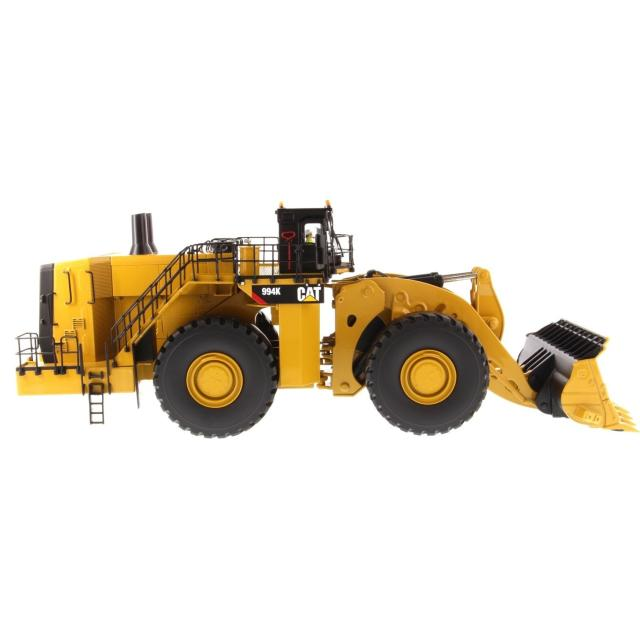buldozerpayloadergrader: (6, 191, 640, 446)
